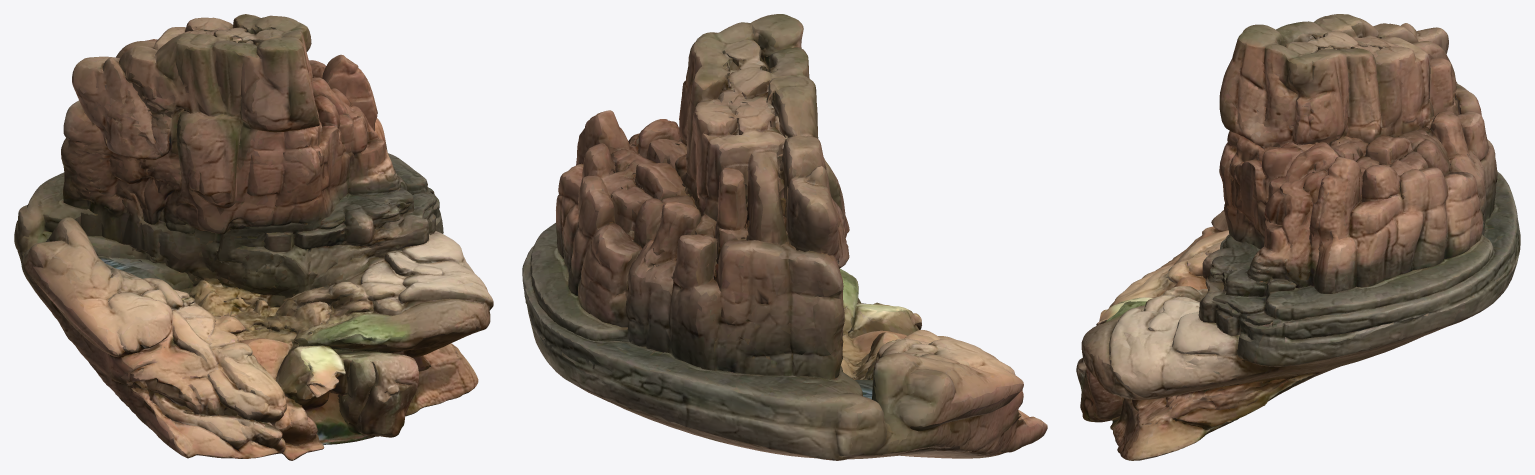
Rendered from eroded-granite-v10.glb.
The picture shows the model from 3 angles, left to right: view 1: azimuth 30°, elevation 25°; view 2: azimuth 150°, elevation 25°; view 3: azimuth 270°, elevation 25°; orthographic projection. The views are drawn at different scales.
Visible parts, largest first — view 1: geometry_0; view 2: geometry_0; view 3: geometry_0.
Boxes of the visible parts, left/top/right/bottom form: geometry_0: left=14, top=14, right=493, bottom=460; geometry_0: left=522, top=14, right=1047, bottom=460; geometry_0: left=1076, top=14, right=1520, bottom=460.
Size of the model in its own units: 12.77 by 12 by 12.77.
Materials: 1 (1 with a texture image).
